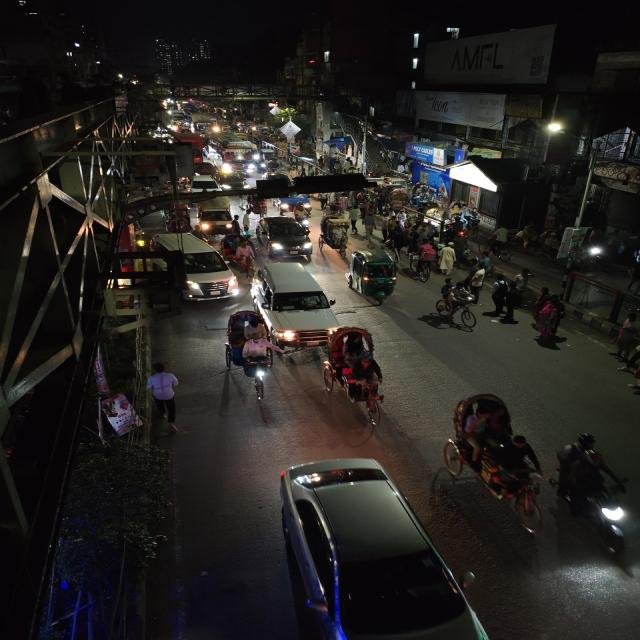bicycle: (434, 280, 480, 334), (474, 226, 526, 265), (413, 240, 438, 282)
bus: (206, 136, 261, 174)
car: (268, 456, 495, 640), (251, 260, 341, 348), (149, 230, 240, 304), (253, 216, 316, 260), (188, 174, 224, 194)
cng: (343, 248, 404, 306), (273, 194, 315, 218)
human_hauler: (196, 199, 240, 233)
motorcycle: (546, 428, 640, 556)
pedestrian: (144, 360, 184, 435), (606, 307, 640, 384), (532, 295, 574, 339), (501, 284, 526, 322), (467, 267, 490, 301), (383, 226, 409, 256), (437, 242, 458, 276), (489, 280, 510, 314), (358, 210, 380, 238), (489, 275, 508, 300), (514, 268, 534, 290), (347, 206, 362, 233)
rickshaw: (436, 388, 552, 530), (313, 322, 394, 430), (218, 308, 279, 403), (318, 216, 354, 254), (161, 206, 196, 234)
